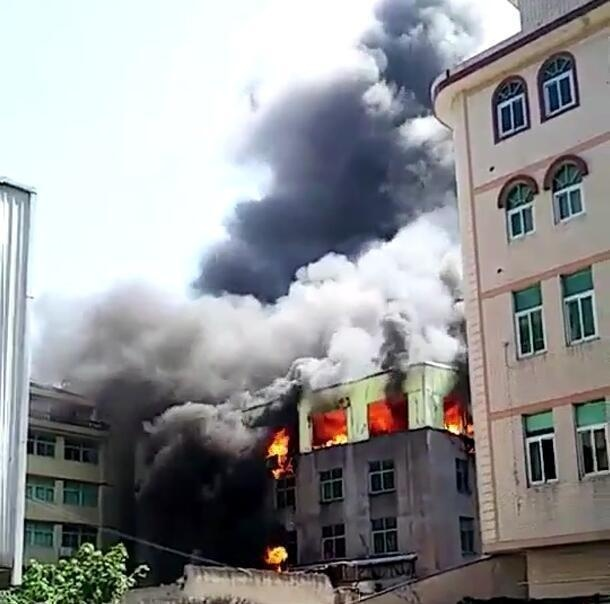fire: (264, 426, 294, 475), (317, 406, 349, 447), (441, 401, 473, 436), (366, 400, 397, 433), (262, 543, 289, 569)
